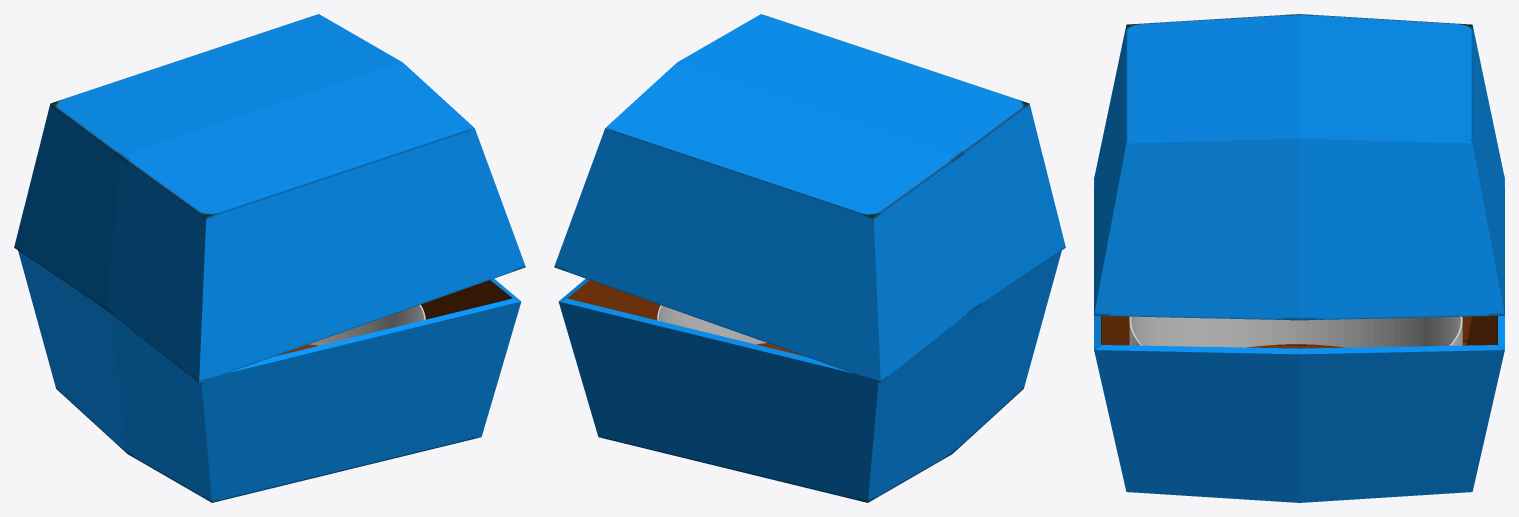
File: Boite Hamburger.fbx
The picture shows the model from 3 angles, left to right: view 1: azimuth 30°, elevation 25°; view 2: azimuth 150°, elevation 25°; view 3: azimuth 270°, elevation 25°; orthographic projection. The views are drawn at different scales.
Parts seen in each view (by area): view 1: Haut-boite, Bas-boite, Protection d'Hamburger; view 2: Haut-boite, Bas-boite, Protection d'Hamburger; view 3: Haut-boite, Bas-boite, Protection d'Hamburger.
Part boxes in pixels (left/top/right/bottom): Haut-boite: left=14, top=14, right=525, bottom=382; Bas-boite: left=18, top=250, right=521, bottom=502; Protection d'Hamburger: left=309, top=304, right=425, bottom=345; Haut-boite: left=554, top=14, right=1065, bottom=382; Bas-boite: left=558, top=250, right=1061, bottom=502; Protection d'Hamburger: left=657, top=305, right=766, bottom=344; Haut-boite: left=1094, top=14, right=1504, bottom=320; Bas-boite: left=1094, top=176, right=1504, bottom=502; Protection d'Hamburger: left=1129, top=316, right=1462, bottom=347.
Size of the model in its own units: 258 by 237 by 245.
Materials: 1 (1 with a texture image).
